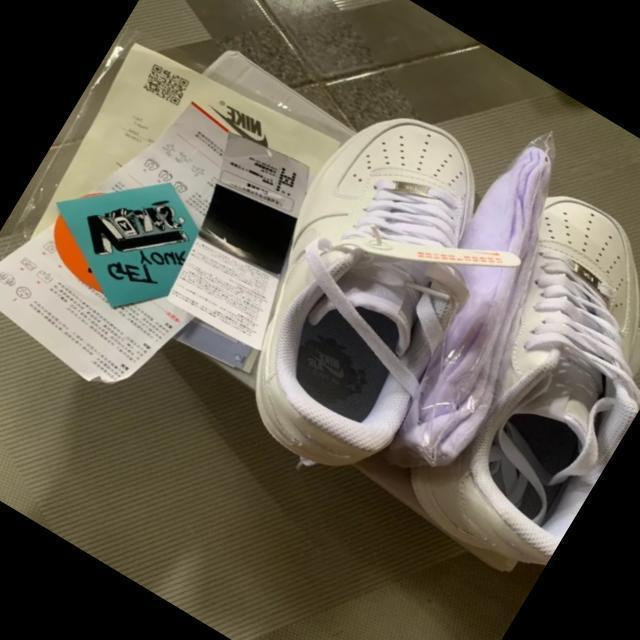nike fake air force: (162, 70, 560, 507), (362, 176, 640, 583)
